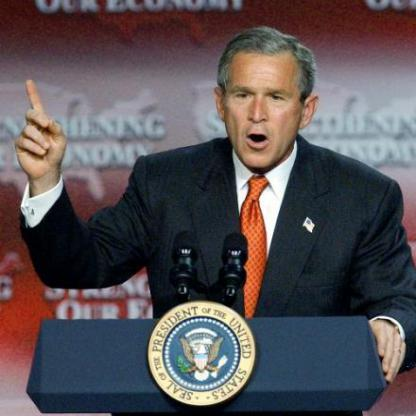face: (225, 34, 304, 171)
